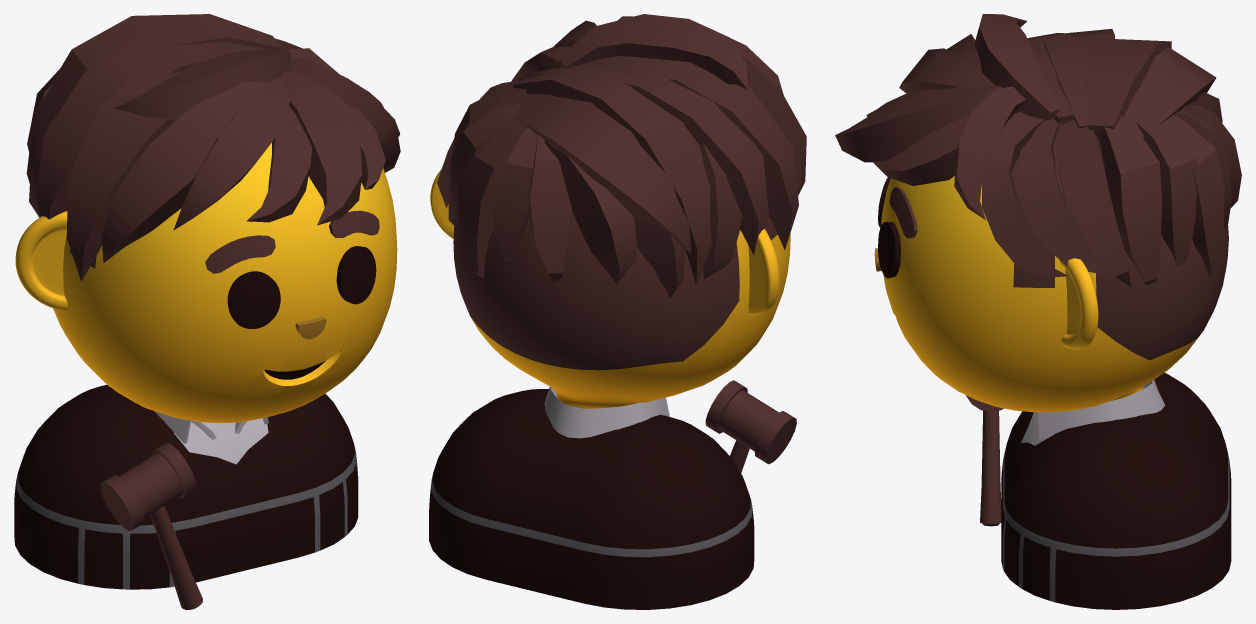
File: Judge.gltf
3 views of the same model, side by side, from view 1: azimuth 30°, elevation 25°; view 2: azimuth 150°, elevation 25°; view 3: azimuth 270°, elevation 25° (orthographic). The views are drawn at different scales.
Visible parts, largest first — view 1: Roundcube.085, Sphere.043, Cube.1075, Cube.1071, Cube.1068, Cube.1067, Cube.1070, Cylinder.077, Cube.1076, Cube.1065, Circle.577, Cylinder.076 (+7 smaller); view 2: Sphere.043, Roundcube.085, Cube.1063, Cube.1067, Cube.1068, Cube.1065, Cube.1071, Cube.1061, Cube.1057, Cylinder.077, Cube.1059, Cube.1056 (+10 smaller); view 3: Roundcube.085, Sphere.043, Cube.1060, Cube.1077, Cube.1070, Cube.1074, Cube.1062, Cube.1065, Cube.1067, Cube.1058, Cube.1063, Cube.1057 (+13 smaller).
Part boxes in pixels (x1=…): Roundcube.085: x1=53, y1=143, x2=397, y2=423; Sphere.043: x1=14, y1=384, x2=358, y2=589; Cube.1075: x1=101, y1=82, x2=272, y2=262; Cube.1071: x1=67, y1=62, x2=180, y2=281; Cube.1068: x1=36, y1=34, x2=268, y2=219; Cube.1067: x1=26, y1=14, x2=281, y2=183; Cube.1070: x1=280, y1=71, x2=361, y2=225; Cylinder.077: x1=100, y1=442, x2=202, y2=609; Cube.1076: x1=173, y1=76, x2=289, y2=230; Cube.1065: x1=113, y1=49, x2=290, y2=120; Circle.577: x1=227, y1=246, x2=376, y2=328; Cylinder.076: x1=15, y1=211, x2=67, y2=310; Sphere.043: x1=429, y1=389, x2=754, y2=609; Roundcube.085: x1=453, y1=210, x2=790, y2=408; Cube.1063: x1=510, y1=94, x2=691, y2=252; Cube.1067: x1=513, y1=65, x2=711, y2=284; Cube.1068: x1=584, y1=61, x2=768, y2=254; Cube.1065: x1=559, y1=14, x2=748, y2=90; Cube.1071: x1=556, y1=56, x2=798, y2=250; Cube.1061: x1=545, y1=141, x2=637, y2=284; Cube.1057: x1=457, y1=118, x2=527, y2=278; Cylinder.077: x1=705, y1=380, x2=796, y2=472; Cube.1059: x1=529, y1=134, x2=571, y2=281; Cube.1056: x1=494, y1=128, x2=537, y2=261; Roundcube.085: x1=881, y1=113, x2=1228, y2=412; Sphere.043: x1=1001, y1=372, x2=1231, y2=609; Cube.1060: x1=1098, y1=115, x2=1161, y2=284; Cube.1077: x1=1055, y1=120, x2=1131, y2=287; Cube.1070: x1=835, y1=85, x2=1001, y2=162; Cube.1074: x1=981, y1=111, x2=1068, y2=277; Cube.1062: x1=1017, y1=118, x2=1108, y2=273; Cube.1065: x1=974, y1=14, x2=1060, y2=120; Cube.1067: x1=1084, y1=39, x2=1171, y2=134; Cube.1058: x1=1135, y1=121, x2=1197, y2=266; Cube.1063: x1=1124, y1=47, x2=1216, y2=137; Cube.1057: x1=1161, y1=115, x2=1224, y2=275.
Size of the model in its own units: 1.76 by 2.46 by 1.77.
7 materials, 2 textured.
